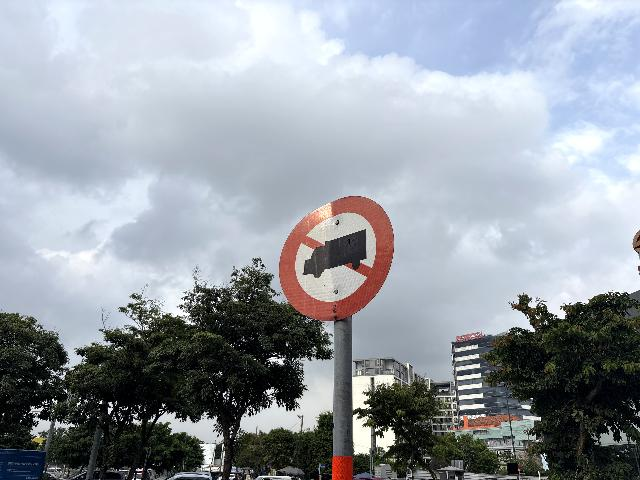cam-xe-tai: (279, 194, 394, 322)
